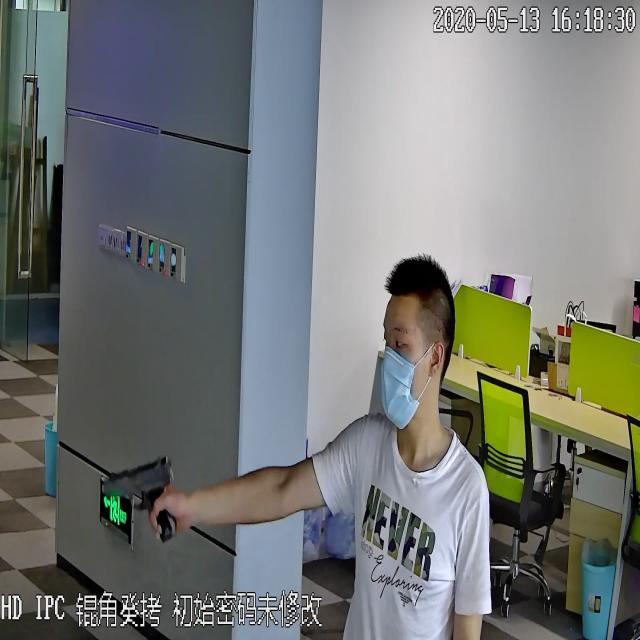gun: (100, 448, 182, 553)
